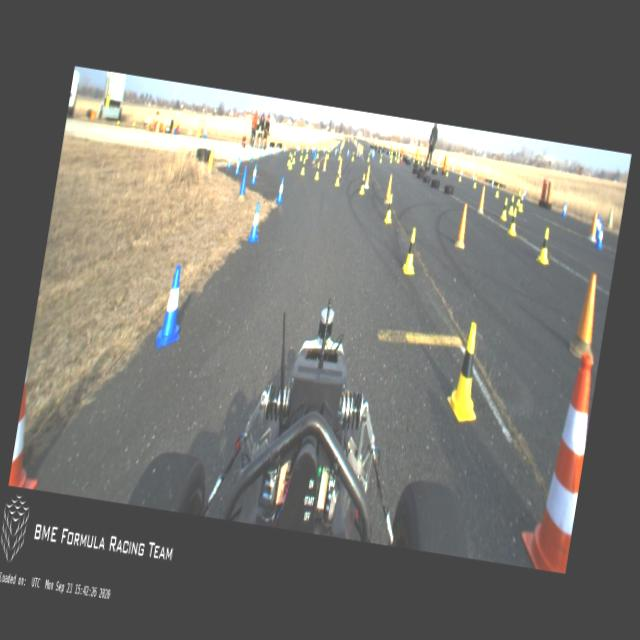blue_cone: (155, 262, 190, 350), (248, 201, 264, 242), (596, 224, 606, 251), (276, 177, 286, 202), (250, 163, 260, 185), (234, 155, 242, 175), (560, 202, 568, 218), (226, 152, 234, 168), (596, 220, 602, 240), (238, 148, 244, 164), (250, 146, 256, 162), (275, 144, 280, 156), (268, 144, 272, 158), (522, 188, 526, 202), (260, 146, 264, 158), (490, 178, 494, 190), (204, 128, 208, 138), (358, 150, 362, 159), (282, 144, 286, 153), (322, 147, 326, 155), (346, 149, 349, 158), (451, 166, 454, 175), (296, 144, 299, 153), (472, 172, 475, 181), (334, 148, 337, 156), (372, 152, 375, 160), (312, 144, 314, 154), (379, 148, 382, 154), (409, 155, 412, 161), (370, 146, 372, 154), (372, 148, 374, 156), (388, 149, 390, 155)
large_orange_cone: (516, 347, 600, 573), (8, 372, 54, 490)
unknown_cone: (567, 270, 608, 364), (454, 202, 472, 250), (237, 166, 250, 200), (588, 211, 600, 241), (477, 185, 488, 215), (384, 174, 394, 202), (606, 205, 616, 229), (206, 147, 215, 173), (363, 165, 372, 188), (336, 158, 344, 177), (322, 154, 328, 172), (312, 150, 317, 164), (337, 144, 340, 150), (330, 144, 332, 150)
yellow_cone: (444, 321, 491, 424), (402, 228, 422, 274), (536, 227, 554, 267), (384, 193, 396, 224), (508, 208, 520, 235), (500, 199, 510, 221), (508, 194, 517, 215), (518, 192, 526, 214), (359, 173, 367, 194), (314, 161, 322, 180), (336, 166, 342, 186), (494, 182, 501, 198), (516, 190, 522, 207), (300, 158, 306, 174), (286, 151, 292, 167), (291, 149, 297, 165), (288, 155, 294, 170), (114, 119, 120, 133), (130, 122, 136, 134), (196, 125, 202, 137), (299, 148, 304, 162), (473, 176, 478, 189), (458, 170, 463, 182), (316, 146, 320, 160), (445, 166, 450, 177), (326, 148, 330, 161), (396, 154, 400, 166), (304, 149, 308, 160), (338, 150, 342, 161), (351, 152, 355, 162), (389, 154, 393, 164), (420, 157, 424, 167), (394, 151, 398, 161), (417, 156, 420, 165), (413, 155, 416, 163), (407, 154, 410, 162), (390, 150, 393, 158), (360, 146, 363, 154), (436, 164, 439, 171), (380, 154, 382, 163), (428, 159, 430, 168), (341, 142, 344, 148), (368, 154, 370, 162), (358, 143, 360, 151), (340, 142, 342, 150)
